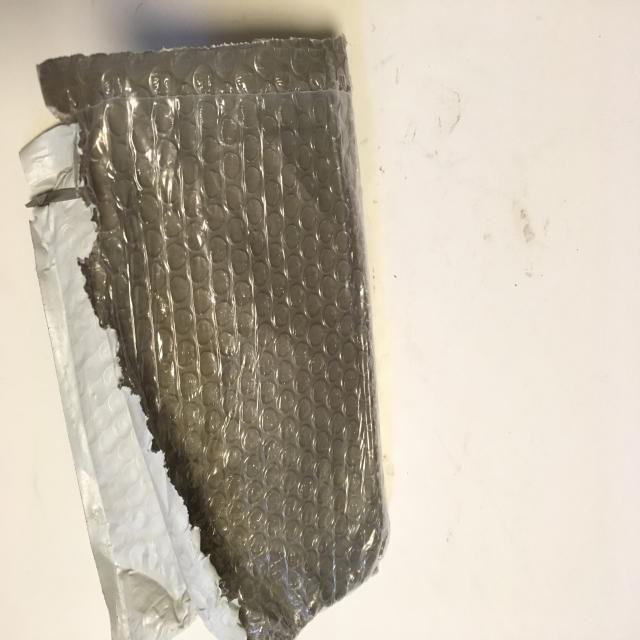plastic: (19, 45, 394, 640)
